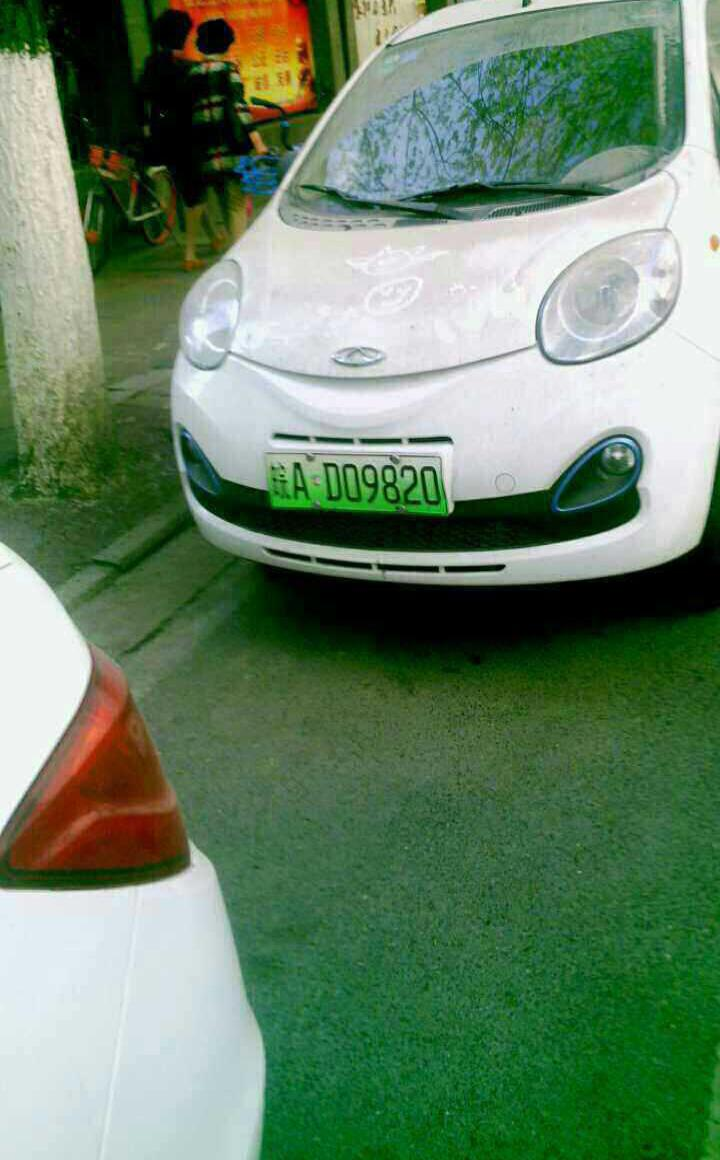car: (257, 448, 448, 520)
